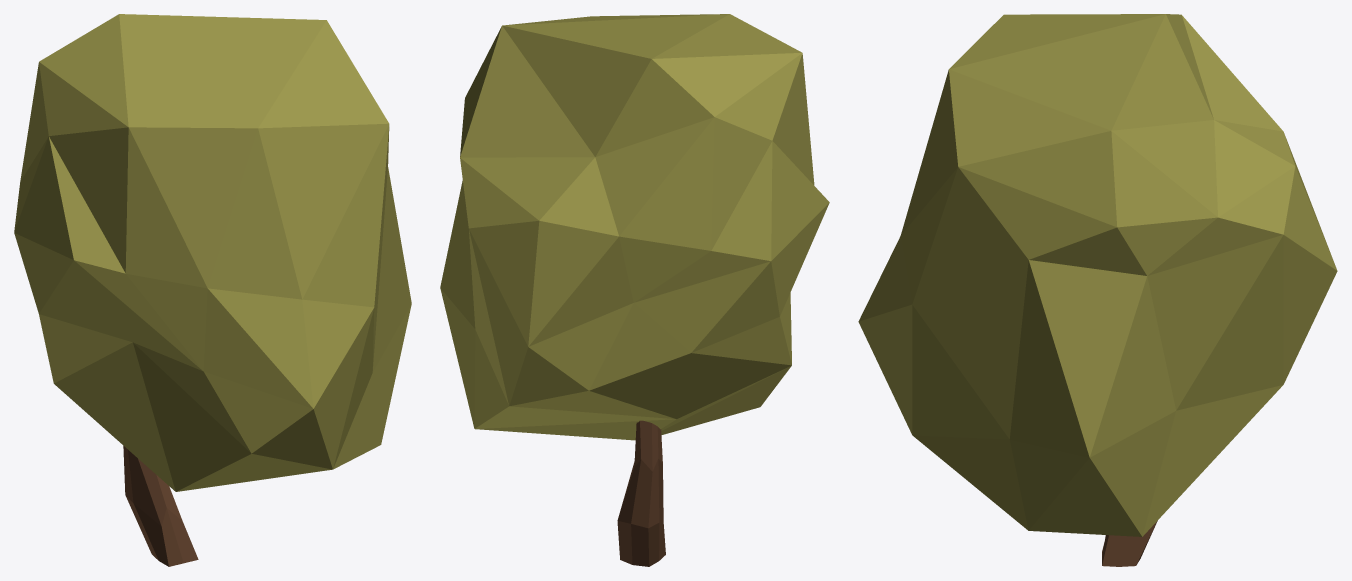
File: Tree_44_Yellow.fbx
3 views of the same model, side by side, from view 1: azimuth 30°, elevation 25°; view 2: azimuth 150°, elevation 25°; view 3: azimuth 270°, elevation 25° (orthographic). The views are drawn at different scales.
Parts seen in each view (by area): view 1: Tree_44_Yellow_Part_1, Tree_44_Yellow_Part_2; view 2: Tree_44_Yellow_Part_1, Tree_44_Yellow_Part_2; view 3: Tree_44_Yellow_Part_1, Tree_44_Yellow_Part_2.
Part boxes in pixels (box(x1,y1,x2,y2)): Tree_44_Yellow_Part_1: box(14, 14, 411, 491); Tree_44_Yellow_Part_2: box(123, 446, 198, 566); Tree_44_Yellow_Part_1: box(440, 14, 829, 440); Tree_44_Yellow_Part_2: box(617, 420, 665, 566); Tree_44_Yellow_Part_1: box(858, 14, 1337, 536); Tree_44_Yellow_Part_2: box(1102, 520, 1157, 566).
Bounding box in the file's own units: 595 × 825 × 677.
